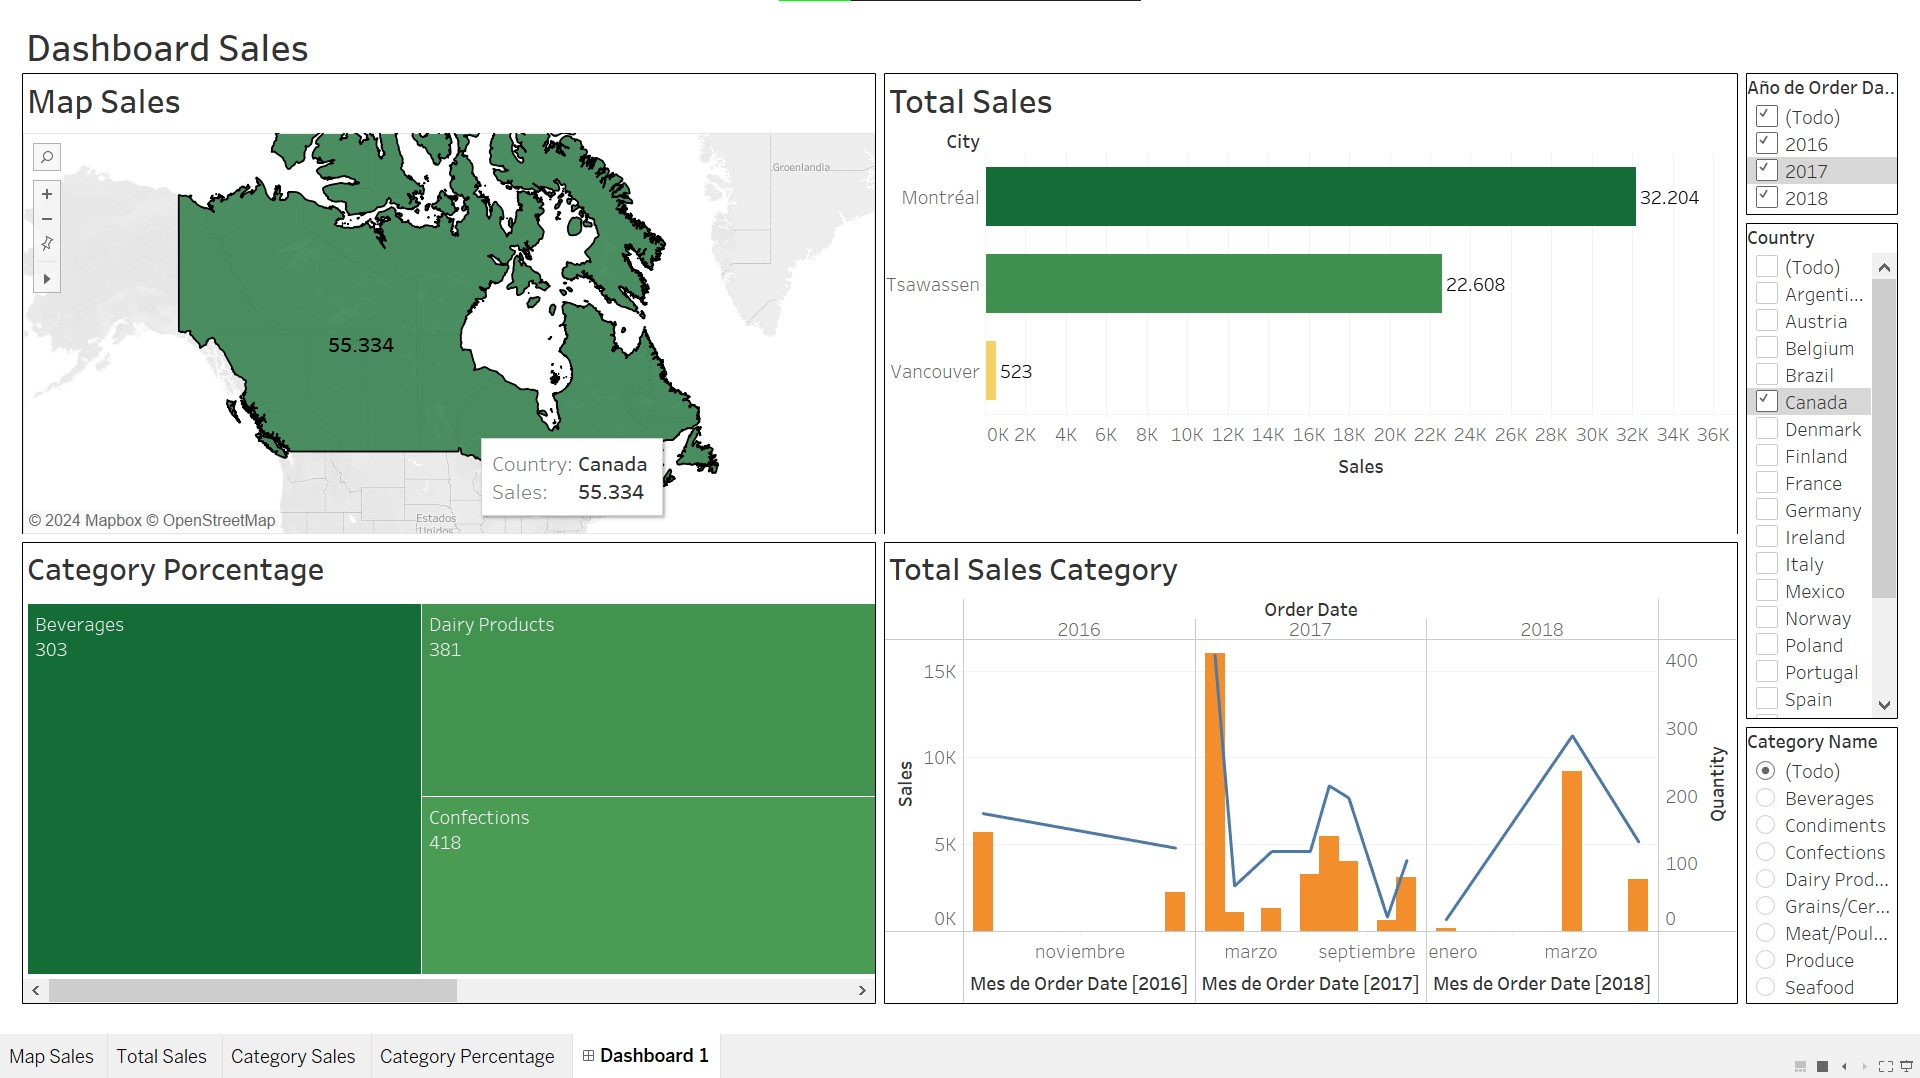

What the dashboard file says about the page in this screenshot:
{"tool":"tableau","page":{"name":"Dashboard 1","canvas":[1900,1000],"ordinal":0},"visuals":[{"type":"title","box":[8,8,1884,44.5]},{"type":"worksheet","title":"Map Sales","mark":"Multipolygon","box":[8,52.5,862,469.7]},{"type":"worksheet","title":"Total Sales","mark":"Automatic","rows":["City"],"cols":["Calculation_1621295867737296896"],"box":[870,52.5,862,469.7]},{"type":"filter","title":"Total Sales","param":"[federated.1s5o2ju05bla401h8ldla0eg3z3b].[yr:OrderDate:ok]","box":[1732,52.5,160,150]},{"type":"filter","title":"Total Sales","param":"[federated.1s5o2ju05bla401h8ldla0eg3z3b].[none:Country:nk]","box":[1732,202.5,160,504.5]},{"type":"worksheet","title":"Category Percentage","mark":"Automatic","box":[8,522.3,862,469.7]},{"type":"worksheet","title":"Category Sales","mark":"Automatic","rows":["Calculation_1621295867737296896","Quantity"],"cols":["OrderDate","OrderDate"],"box":[870,522.3,862,469.7]},{"type":"filter","title":"Category Sales","param":"[federated.1s5o2ju05bla401h8ldla0eg3z3b].[none:CategoryName:nk]","box":[1732,707,160,285]}]}

Visuals, with their boxes in screenshot pixels (x1, y1, x2, y2):
title: bbox=[18, 23, 1895, 67]
"Map Sales" worksheet (Multipolygon marks): bbox=[18, 67, 877, 535]
"Total Sales" worksheet: bbox=[877, 67, 1736, 535]
"Total Sales" filter: bbox=[1736, 67, 1895, 217]
"Total Sales" filter: bbox=[1736, 217, 1895, 720]
"Category Percentage" worksheet: bbox=[18, 536, 877, 1004]
"Category Sales" worksheet: bbox=[877, 536, 1736, 1004]
"Category Sales" filter: bbox=[1736, 720, 1895, 1004]
